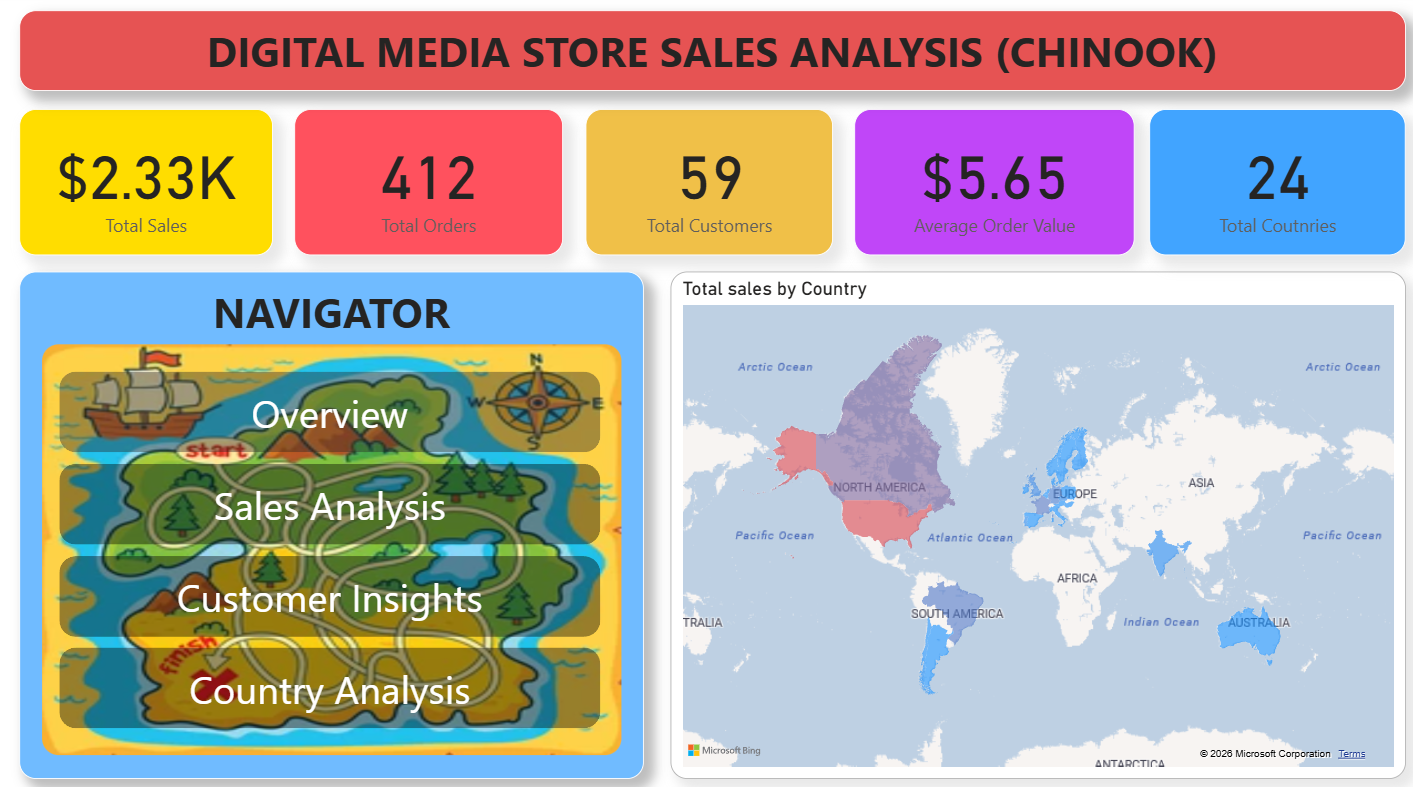

This screenshot's page, from the dashboard's own definition file:
{"tool":"powerbi","page":{"name":"Overview","canvas":[1280,720],"ordinal":0},"visuals":[{"type":"card","fields":{"Values":["_measures.Total Sales"]},"box":[18.8,103.6,228.6,131.8],"z":0},{"type":"card","fields":{"Values":["Count(invoice.invoice_id)"]},"box":[267.6,103.6,242.1,131.8],"z":1000},{"type":"card","fields":{"Values":["_measures.count_Customers"]},"box":[529.9,103.6,223.2,131.8],"z":2000},{"type":"card","fields":{"Values":["Avg(invoice.total)"]},"box":[771.9,103.6,252.8,131.8],"z":3000},{"type":"filledMap","fields":{"Category":["invoice.billing_country"]},"box":[606.5,250.1,663,457.2],"z":4000},{"type":"textbox","box":[18.8,14.8,1250.7,72.6],"z":6000},{"type":"card","fields":{"Values":["Count(invoice.billing_country)"]},"box":[1038.2,103.6,231.3,131.8],"z":6004},{"type":"textbox","box":[18.8,250.1,563.5,457.2],"z":6005},{"type":"image","box":[35,310.7,532.6,380.6],"z":6006},{"type":"pageNavigator","box":[55.1,340.2,488.2,322.8],"z":6007}]}

Visuals, with their boxes in screenshot pixels (x1, y1, x2, y2), scaled from the page's 1280x720 canvas onto the 1413x787 screenshot:
card - _measures.Total Sales: box(21, 113, 273, 257)
card - Count(invoice.invoice_id): box(295, 113, 563, 257)
card - _measures.count_Customers: box(585, 113, 831, 257)
card - Avg(invoice.total): box(852, 113, 1131, 257)
filledMap - invoice.billing_country: box(670, 273, 1401, 773)
textbox: box(21, 16, 1401, 96)
card - Count(invoice.billing_country): box(1146, 113, 1401, 257)
textbox: box(21, 273, 643, 773)
image: box(39, 340, 627, 756)
pageNavigator: box(61, 372, 600, 725)
